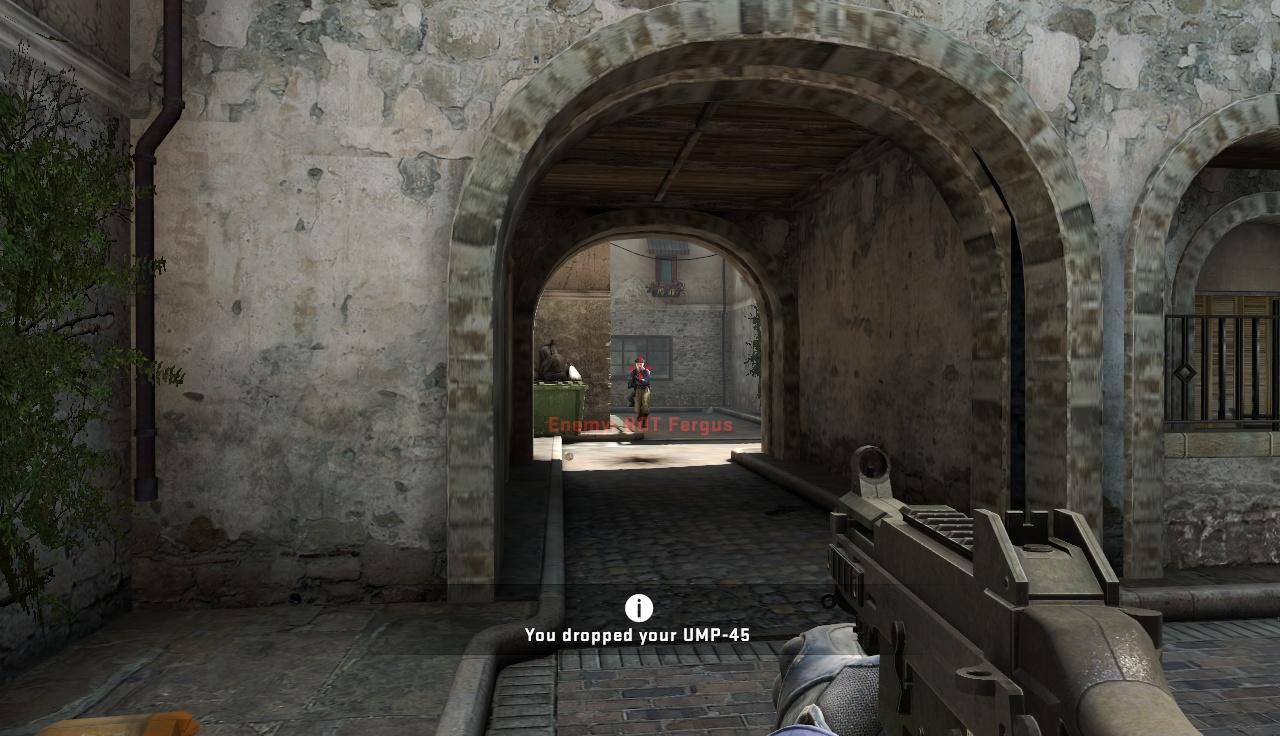rifle: (828, 436, 1196, 736)
tt: (632, 357, 651, 417)
tthead: (634, 357, 645, 370)
